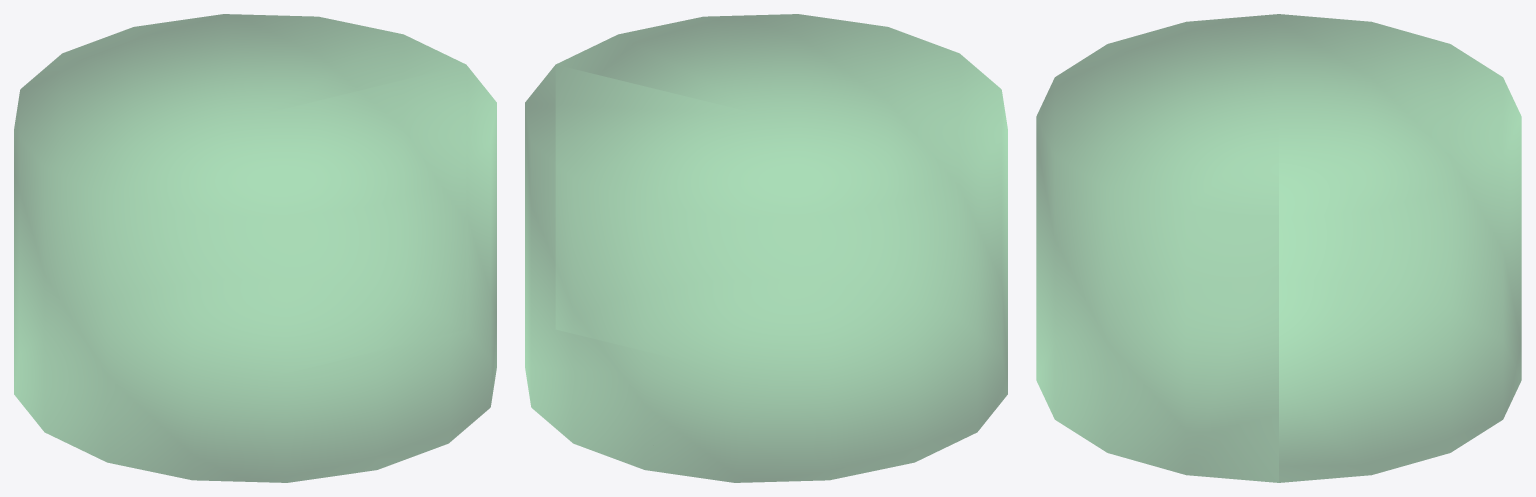
The model's file is guti_tamarind_seed_col.glb.
3 renders of one model, left to right at view 1: azimuth 30°, elevation 25°; view 2: azimuth 150°, elevation 25°; view 3: azimuth 270°, elevation 25°, orthographic.
Parts seen in each view (by area): view 1: guti_tamarind_seed_col_0; view 2: guti_tamarind_seed_col_0; view 3: guti_tamarind_seed_col_0.
Boxes of the visible parts, x1,y1,x2,y2 form: guti_tamarind_seed_col_0: (14, 14, 496, 482); guti_tamarind_seed_col_0: (525, 14, 1007, 482); guti_tamarind_seed_col_0: (1036, 14, 1521, 482).
Size of the model in its own units: 0.025 by 0.015 by 0.025.
